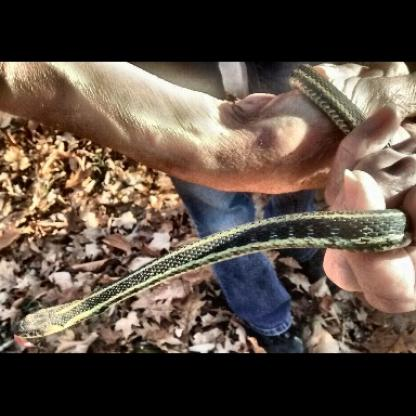Snake: (12, 208, 414, 345)
